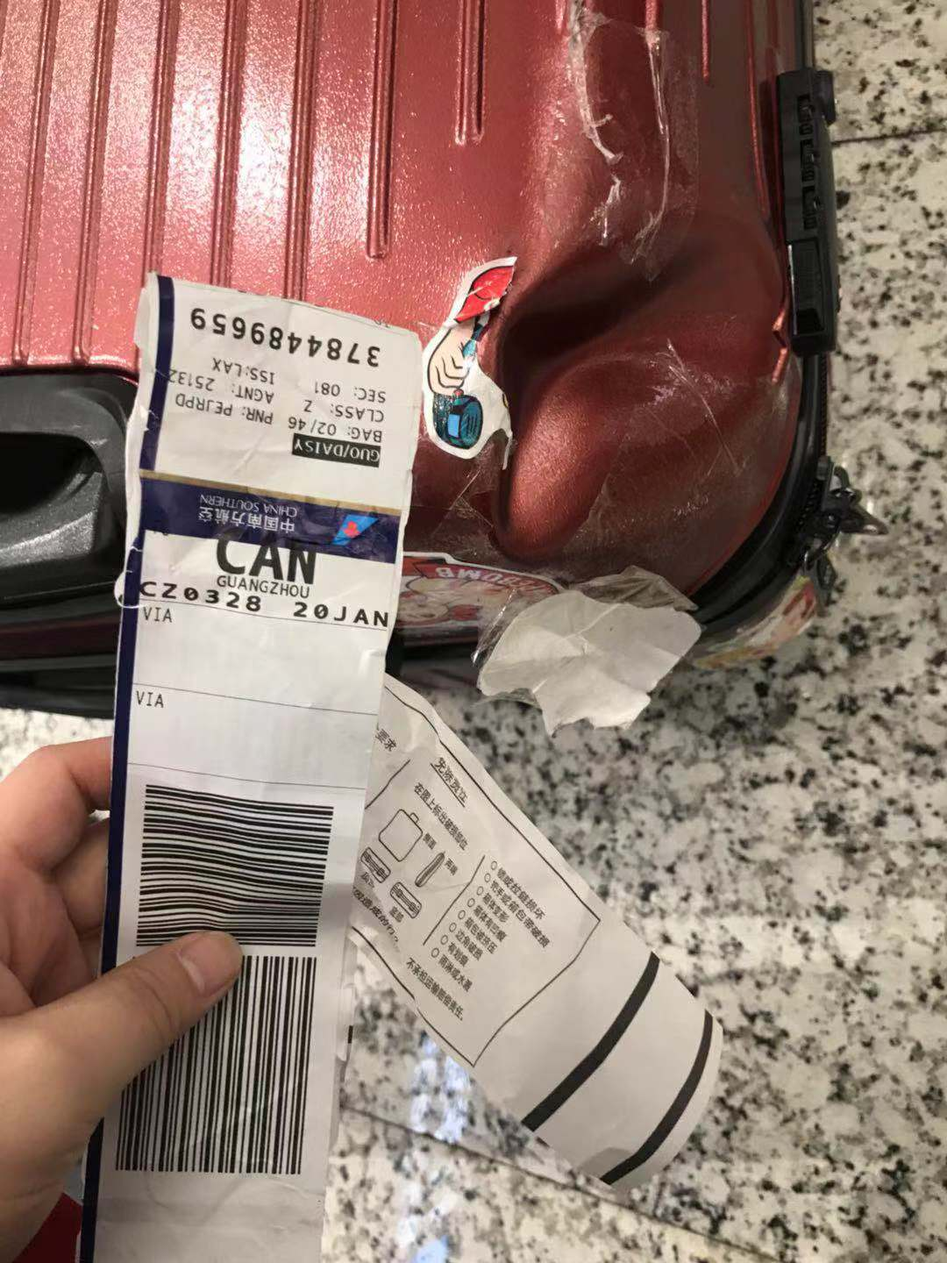rupture: (488, 227, 715, 565)
